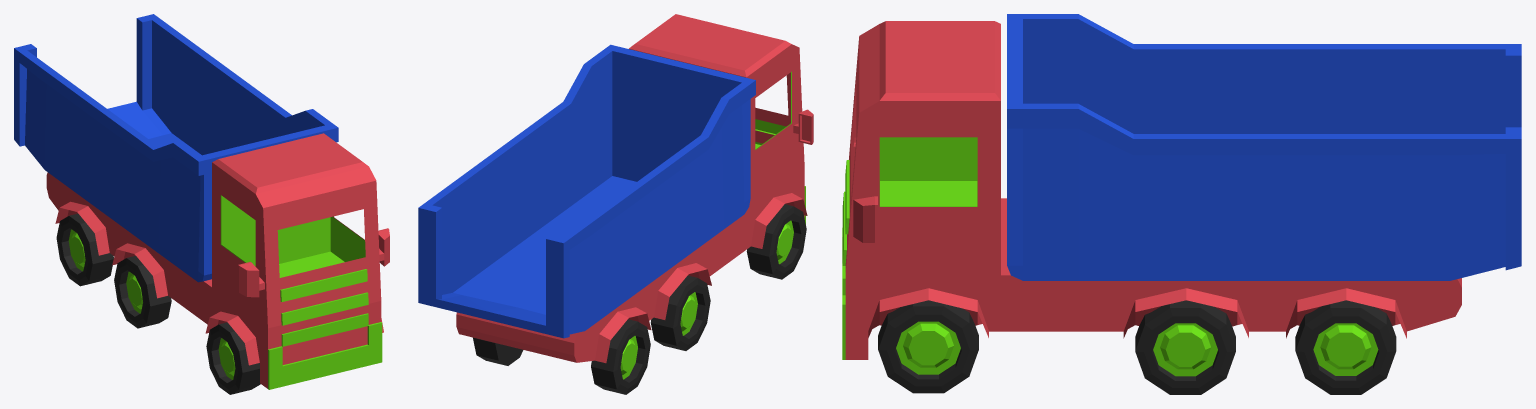
Rendered from toytruck.fbx.
3 renders of one model, left to right at view 1: azimuth 30°, elevation 25°; view 2: azimuth 150°, elevation 25°; view 3: azimuth 270°, elevation 25°, orthographic. The views are drawn at different scales.
Visible parts, largest first — view 1: Plane, Cube, Cylinder.004, Cylinder.003, Cylinder.005; view 2: Cube, Plane, Cylinder.004, Cylinder.003, Cylinder.005, Cylinder; view 3: Cube, Plane, Cylinder, Cylinder.001, Cylinder.002.
Boxes of the visible parts, <box> form: Plane: <box>46,133,389,389</box>; Cube: <box>14,14,338,282</box>; Cylinder.004: <box>114,255,171,328</box>; Cylinder.003: <box>56,213,113,286</box>; Cylinder.005: <box>206,322,260,394</box>; Cube: <box>418,44,755,338</box>; Plane: <box>456,14,813,363</box>; Cylinder.004: <box>650,275,710,350</box>; Cylinder.003: <box>591,319,650,394</box>; Cylinder.005: <box>746,204,806,279</box>; Cylinder: <box>473,337,523,365</box>; Cube: <box>1007,14,1521,280</box>; Plane: <box>842,21,1461,359</box>; Cylinder: <box>1295,300,1396,394</box>; Cylinder.001: <box>1135,300,1235,394</box>; Cylinder.002: <box>878,300,978,393</box>.
Bounding box in the file's own units: 249 × 335 × 702.
